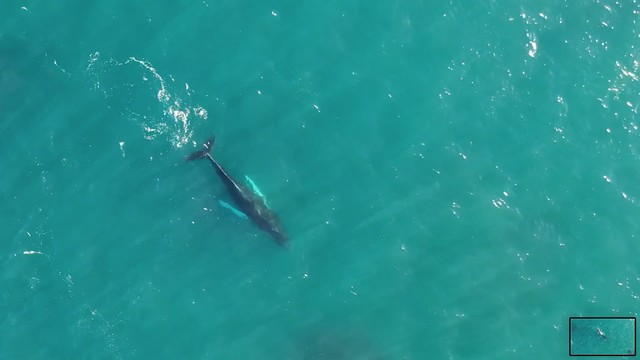whale: (179, 124, 295, 252)
